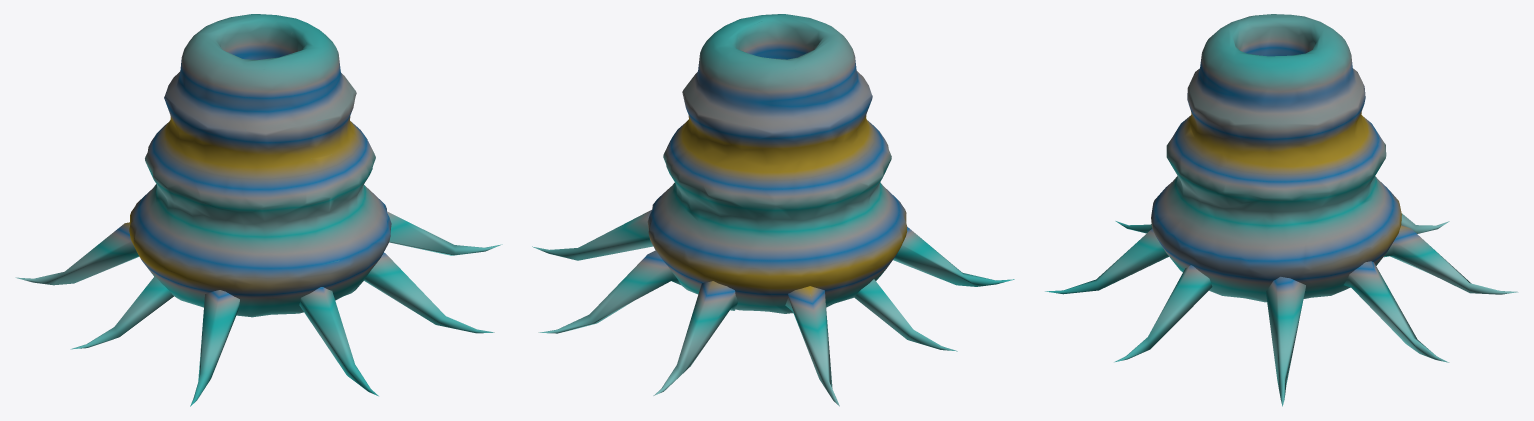
Rendered from bullefleur.obj.
The picture shows the model from 3 angles, left to right: view 1: azimuth 30°, elevation 25°; view 2: azimuth 150°, elevation 25°; view 3: azimuth 270°, elevation 25°; orthographic projection. The views are drawn at different scales.
Visible parts, largest first — view 1: BezierCurve; view 2: BezierCurve; view 3: BezierCurve.
Boxes of the visible parts, box(x1,y1,x2,y2) form: BezierCurve: box(15, 14, 502, 406); BezierCurve: box(532, 14, 1014, 406); BezierCurve: box(1045, 14, 1518, 406).
Size of the model in its own units: 8.02 by 4.8 by 8.02.
